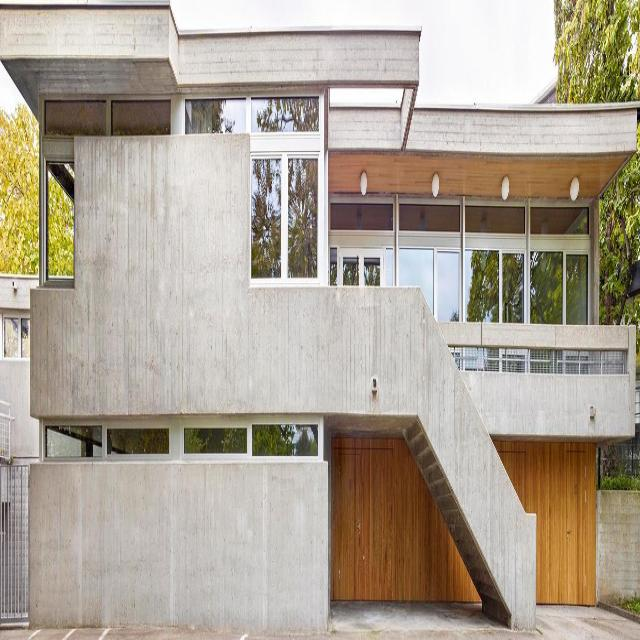wall: (0, 0, 636, 632)
windows: (183, 88, 323, 286), (328, 229, 589, 325), (41, 93, 172, 283), (182, 422, 322, 462), (41, 422, 170, 453)
